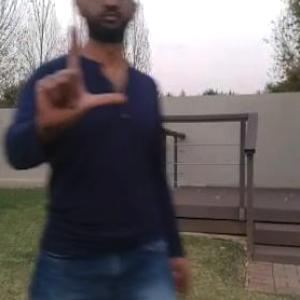land_hand: (32, 19, 128, 136)
